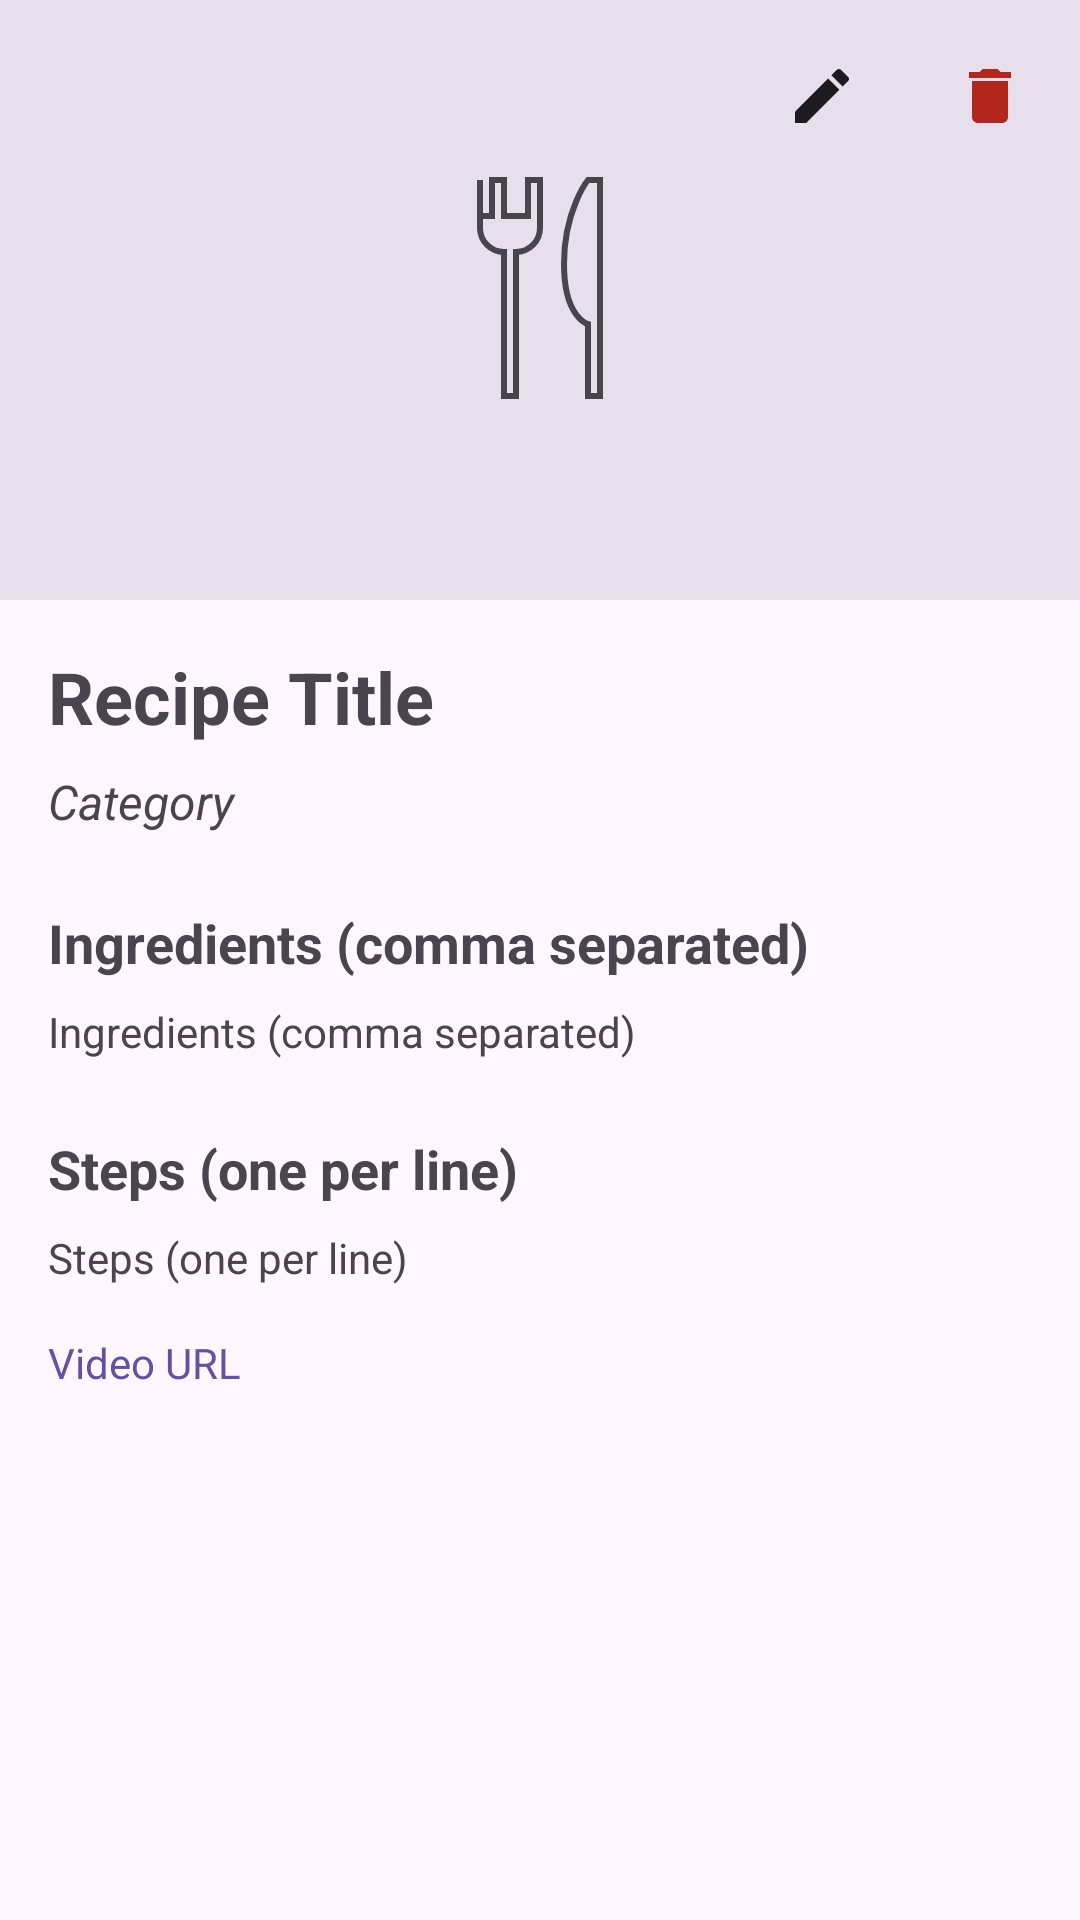

Where icons sit on this 1080px×1920px app screen, as (x1, y1, x2, y2):
Delete: (969, 69, 1011, 123)
Edit: (795, 69, 849, 123)
